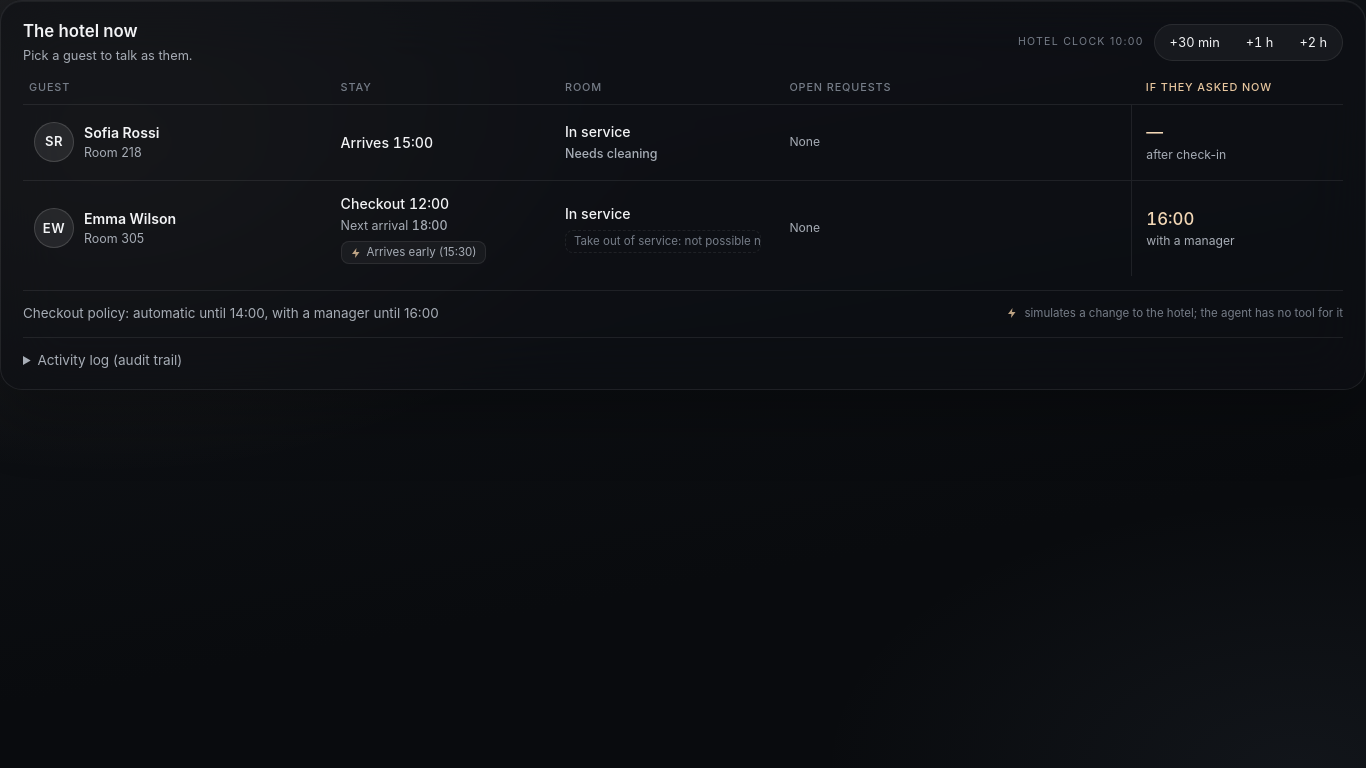
Test: Hotel board › reads the audit log only when opened, with hotel times
The image size is (1366, 768).
Expected: the row with test id "board-room-305" is shown, [23,180,1343,276]
Click the heading "Activity log (audit trail)".
click(110, 360)  # box [37,352,182,368]
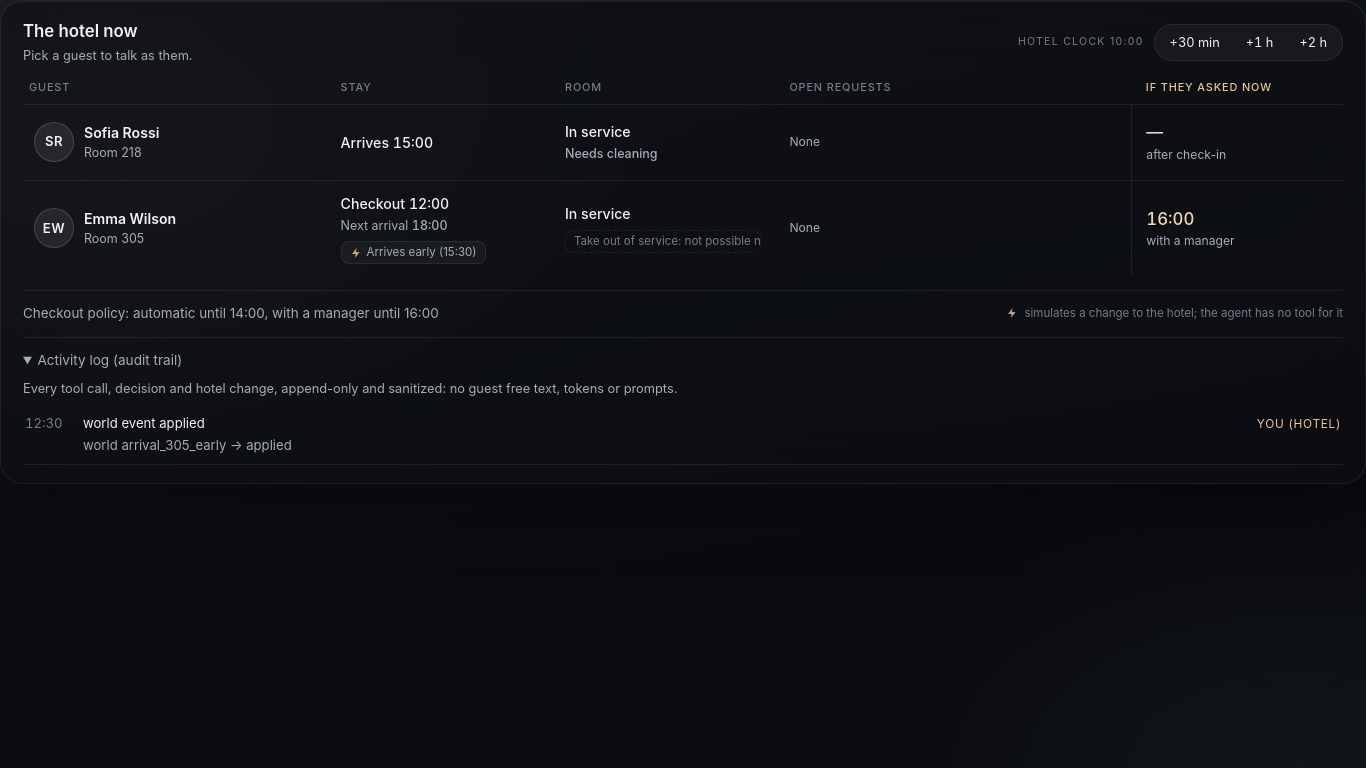
Now the list item with test id "operator-event" shows "12:30", box [25,415,62,431]
Now the list item with test id "operator-event" shows "world event applied", box [83,415,205,431]
